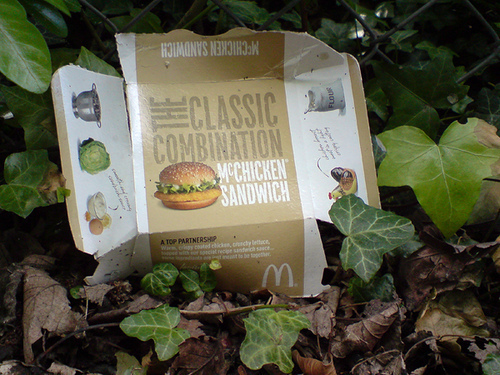litter: (50, 27, 381, 298)
